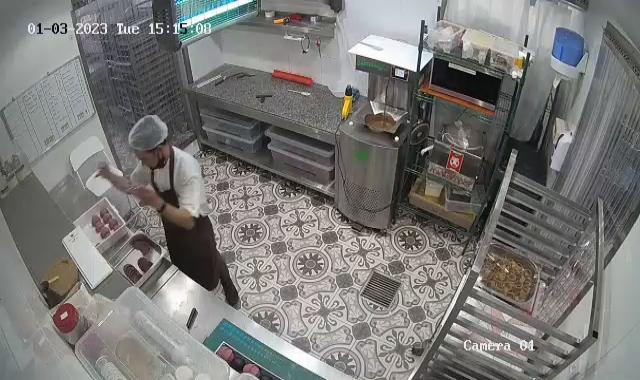hairnet: (129, 114, 170, 164)
